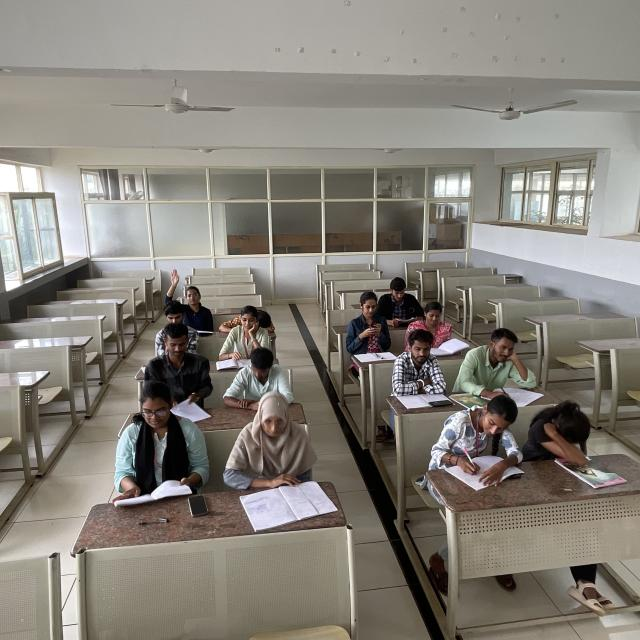Hand Rising: (167, 264, 220, 326)
Reading: (221, 395, 330, 512), (111, 379, 208, 504), (410, 302, 466, 358)
Sleeping: (526, 394, 607, 467)
Using Phone: (345, 288, 396, 357)
Writing: (428, 392, 528, 482)
